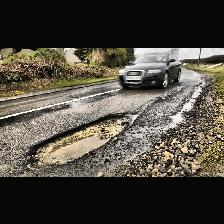pothole: (29, 111, 139, 163)
